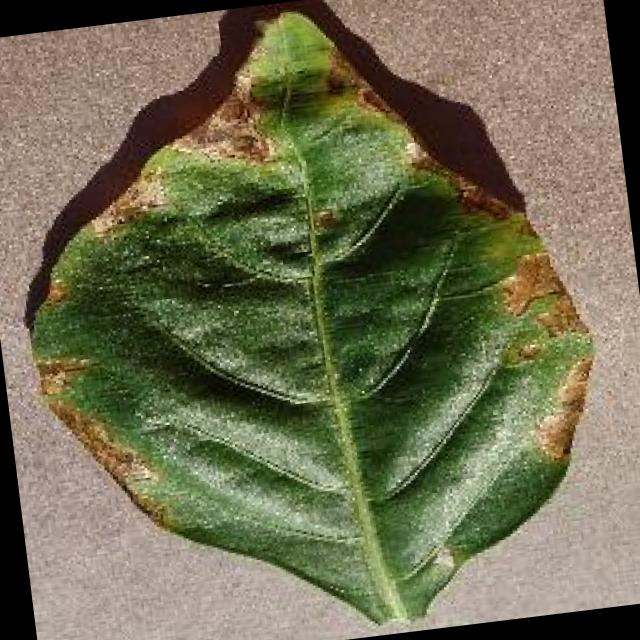Chilli_Bacterial_Spot: (0, 0, 625, 640), (488, 240, 609, 470), (229, 0, 361, 115), (521, 352, 606, 465), (493, 246, 566, 320), (449, 171, 512, 228), (29, 348, 92, 401), (528, 404, 582, 464), (549, 352, 600, 412), (528, 289, 582, 342), (316, 39, 362, 98), (300, 196, 348, 244), (33, 361, 70, 400), (396, 133, 433, 172), (38, 270, 72, 308), (320, 63, 350, 99), (308, 202, 339, 235), (511, 336, 544, 364)
